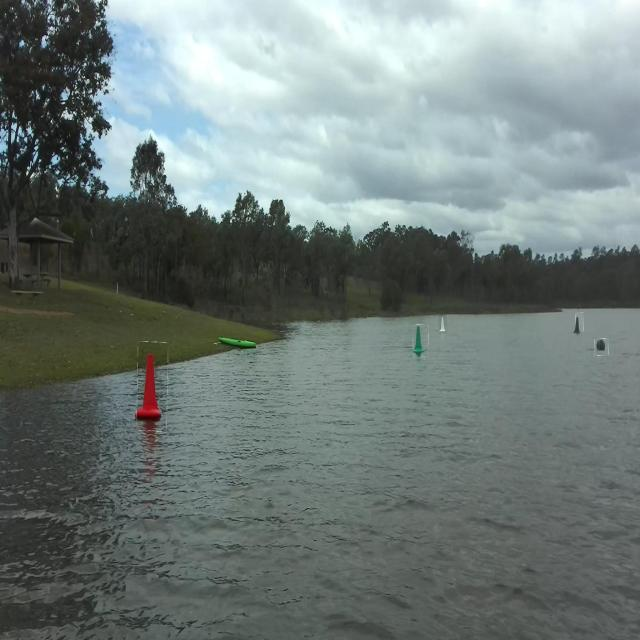Black_Buoy: (571, 305, 584, 339), (592, 339, 610, 359)
Green_Buoy: (411, 322, 425, 367)
Red_Buoy: (142, 346, 164, 432)
White_Buoy: (441, 313, 450, 344)
